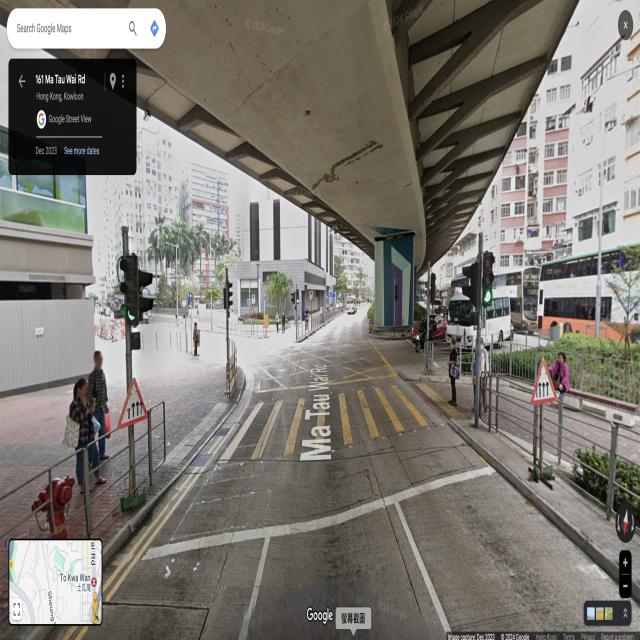Direction-Sign: (330, 292, 336, 297)
Order-Sign: (309, 290, 313, 300), (252, 294, 256, 304), (338, 293, 341, 297), (369, 320, 371, 324)
Warning-Sign: (117, 377, 149, 427), (530, 356, 558, 403)
